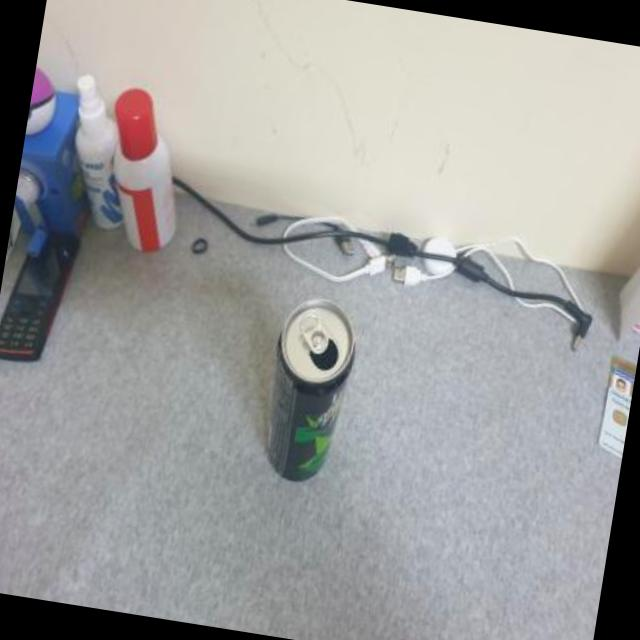metal: (267, 297, 352, 478)
